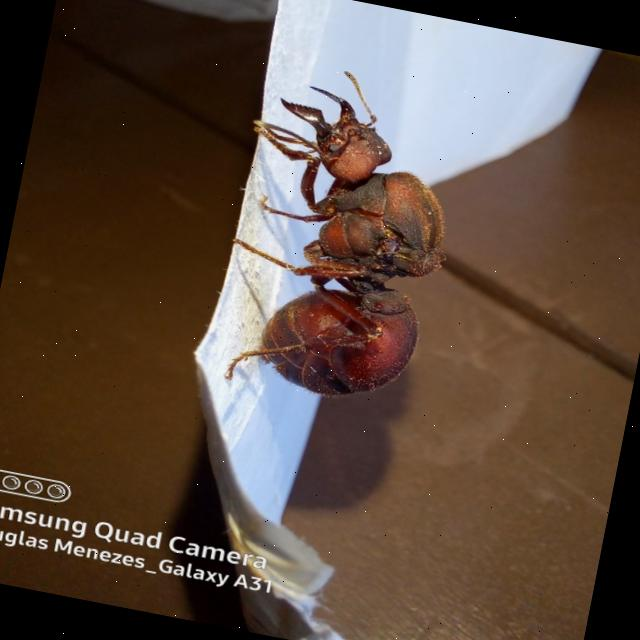Alive-Female-Dealate: (204, 56, 478, 417)
